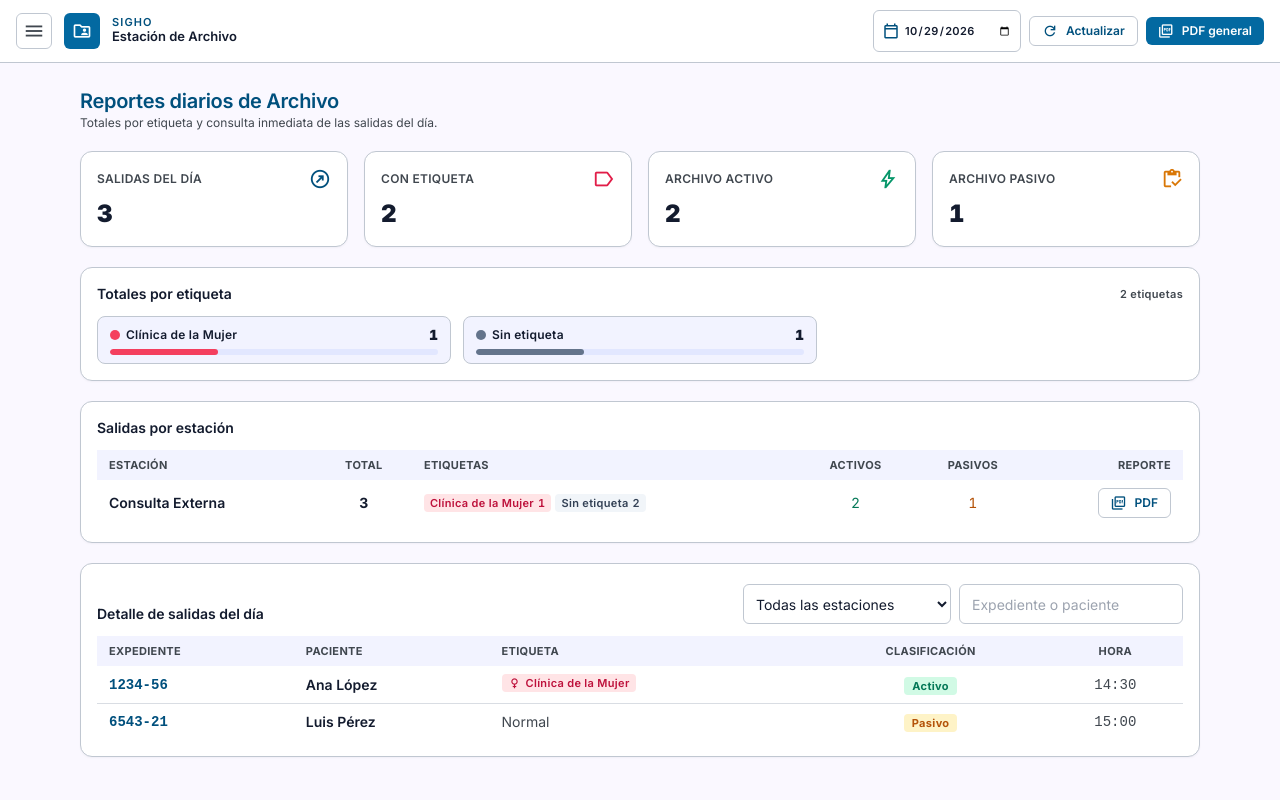
Test: ReportesArchivoPage › filtra el detalle por expediente o paciente
Expected: the text "Ana López" is shown, [294,666,490,704]
Type "Luis" into the field with placeholder "Expediente o paciente".
click(1071, 604); type("Luis")  # box [959,584,1183,624]
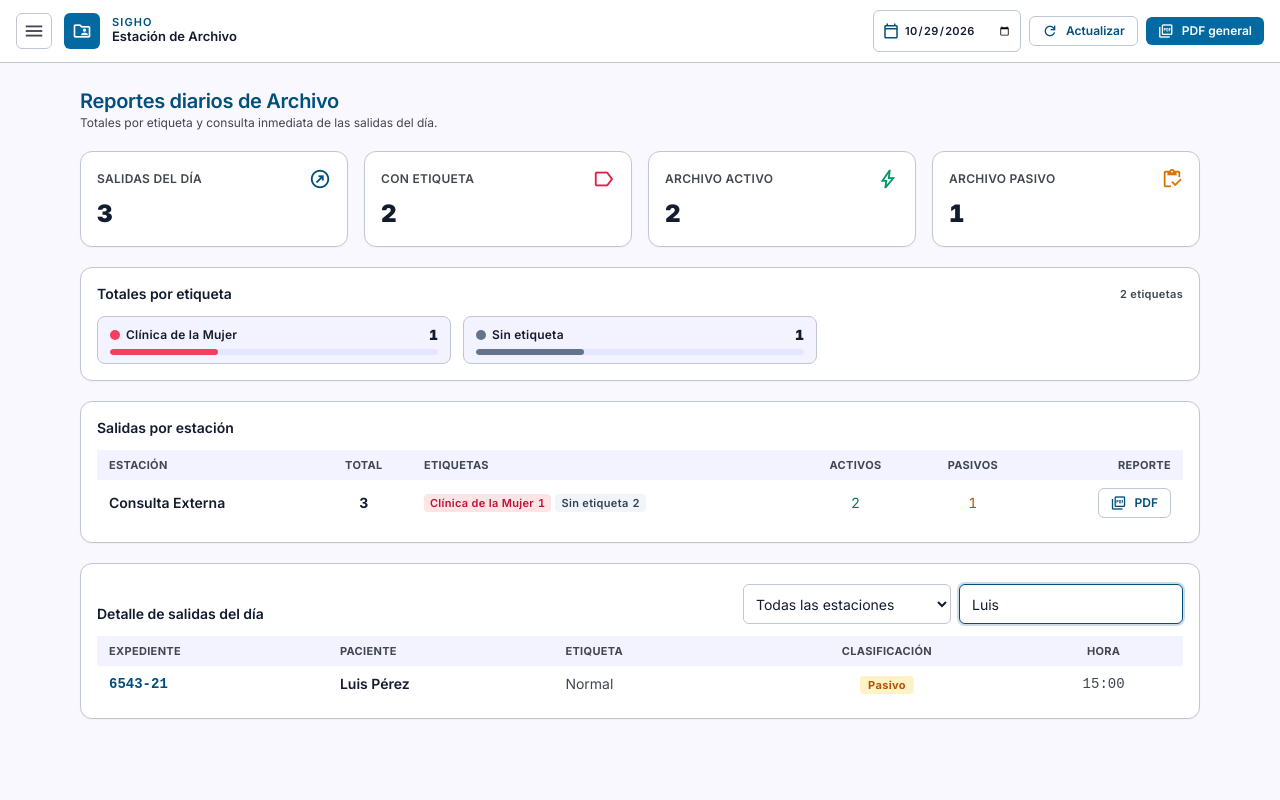
Expected: the text "Luis Pérez" is shown, [328,666,553,702]
Expected: the text "Ana López" is gone
